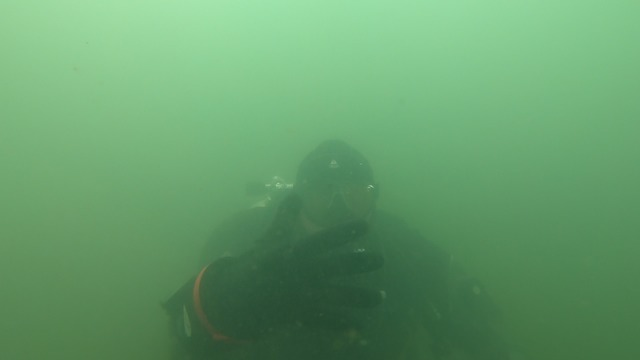Diver: (153, 120, 513, 354)
Hand: (187, 182, 388, 347)
Head: (285, 133, 384, 272)
